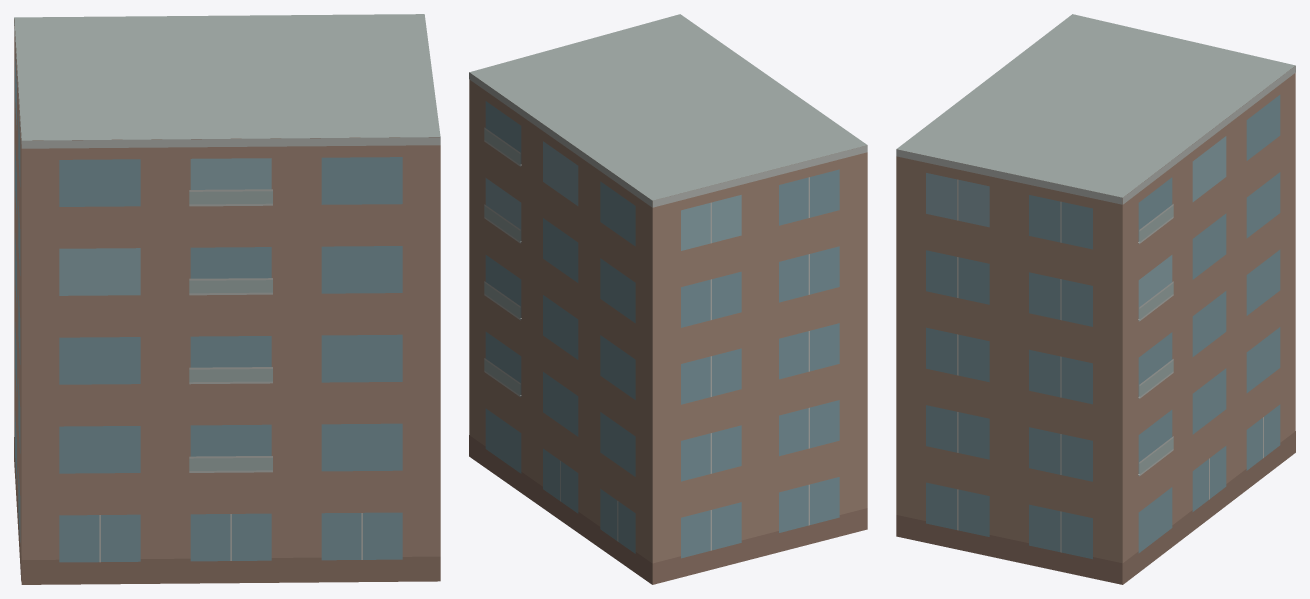
File: survey-upis-32966890.glb
3 renders of one model, left to right at view 1: azimuth 30°, elevation 25°; view 2: azimuth 150°, elevation 25°; view 3: azimuth 270°, elevation 25°, orthographic. The views are drawn at different scales.
Visible parts, largest first — view 1: survey-upis-32966890.tmp; view 2: survey-upis-32966890.tmp; view 3: survey-upis-32966890.tmp.
Part boxes in pixels (x1,y1,x2,y2): survey-upis-32966890.tmp: (14, 14, 440, 584); survey-upis-32966890.tmp: (469, 14, 867, 584); survey-upis-32966890.tmp: (896, 14, 1295, 584).
Size of the model in its own units: 13.49 by 13.25 by 12.4.
